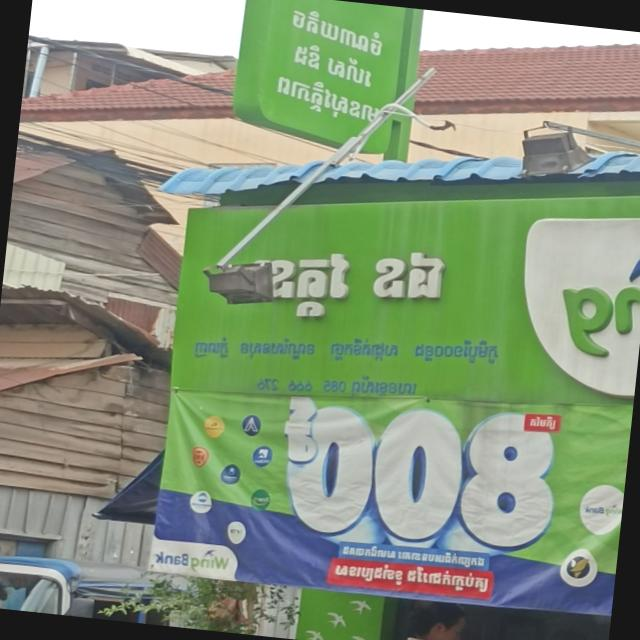1: (290, 245, 454, 322), (287, 36, 377, 96)
893: (328, 557, 489, 598), (338, 540, 488, 569)
Yolov11_80vkh: (272, 64, 386, 129), (286, 0, 387, 63), (411, 334, 504, 367), (321, 335, 400, 363), (237, 336, 317, 362), (345, 373, 418, 398), (186, 332, 233, 359)
